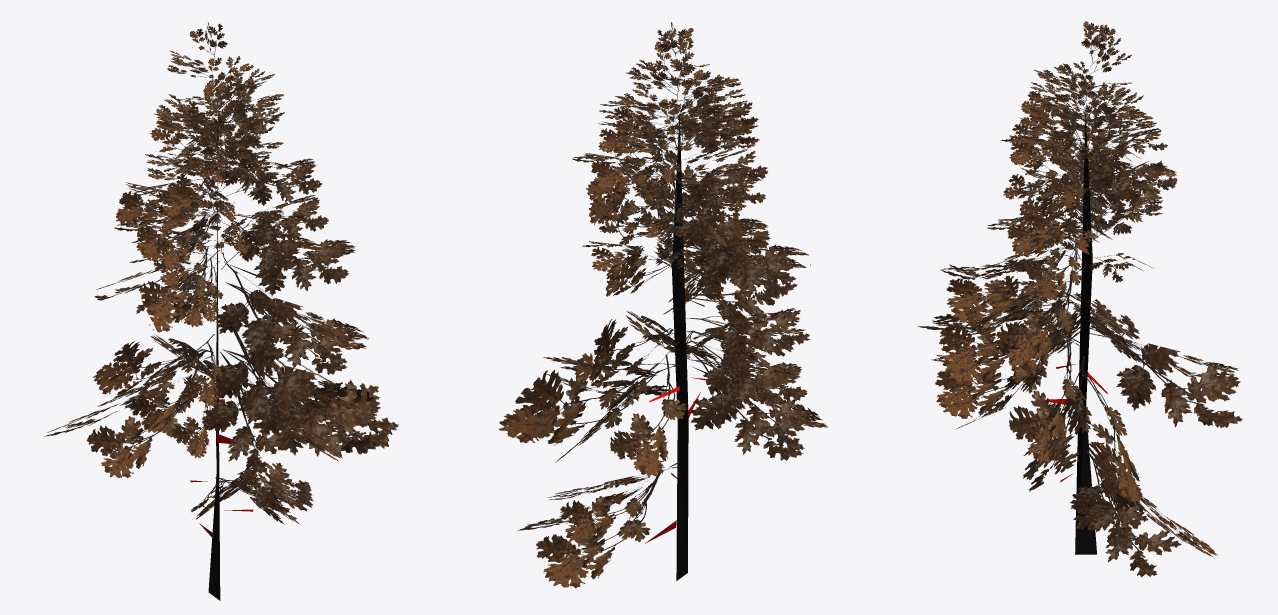
File: spruce4 lod2.FBX
The picture shows the model from 3 angles, left to right: view 1: azimuth 30°, elevation 25°; view 2: azimuth 150°, elevation 25°; view 3: azimuth 270°, elevation 25°; orthographic projection. The views are drawn at different scales.
Parts seen in each view (by area): view 1: spruce4_LOD2; view 2: spruce4_LOD2; view 3: spruce4_LOD2.
Part boxes in pixels (box(x1,y1,x2,y2)): spruce4_LOD2: box(44, 22, 398, 600); spruce4_LOD2: box(499, 22, 828, 588); spruce4_LOD2: box(917, 21, 1242, 577).
Size of the model in its own units: 72973 by 107781 by 67719.
